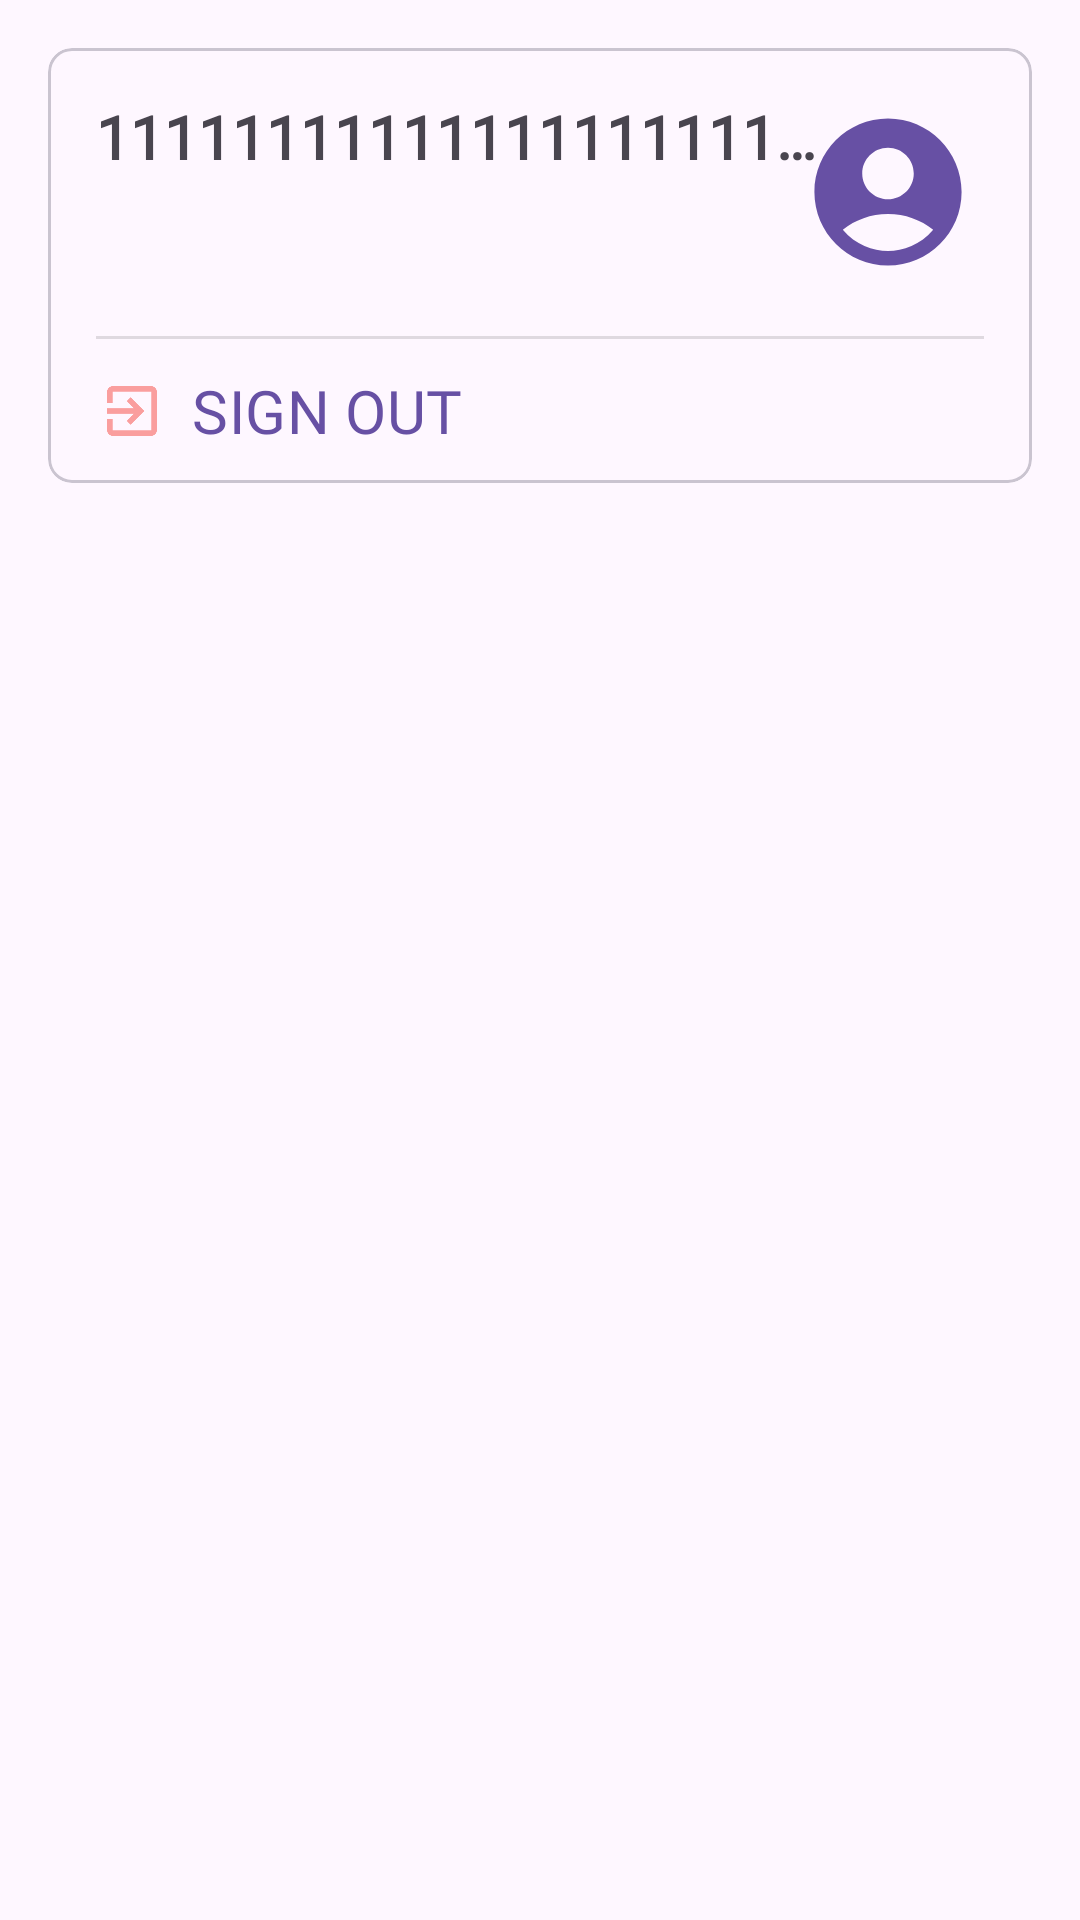

Point at icon controls on the screen. Image size 1080×1920, points as (x=x, y=y).
account: (x=877, y=192)
